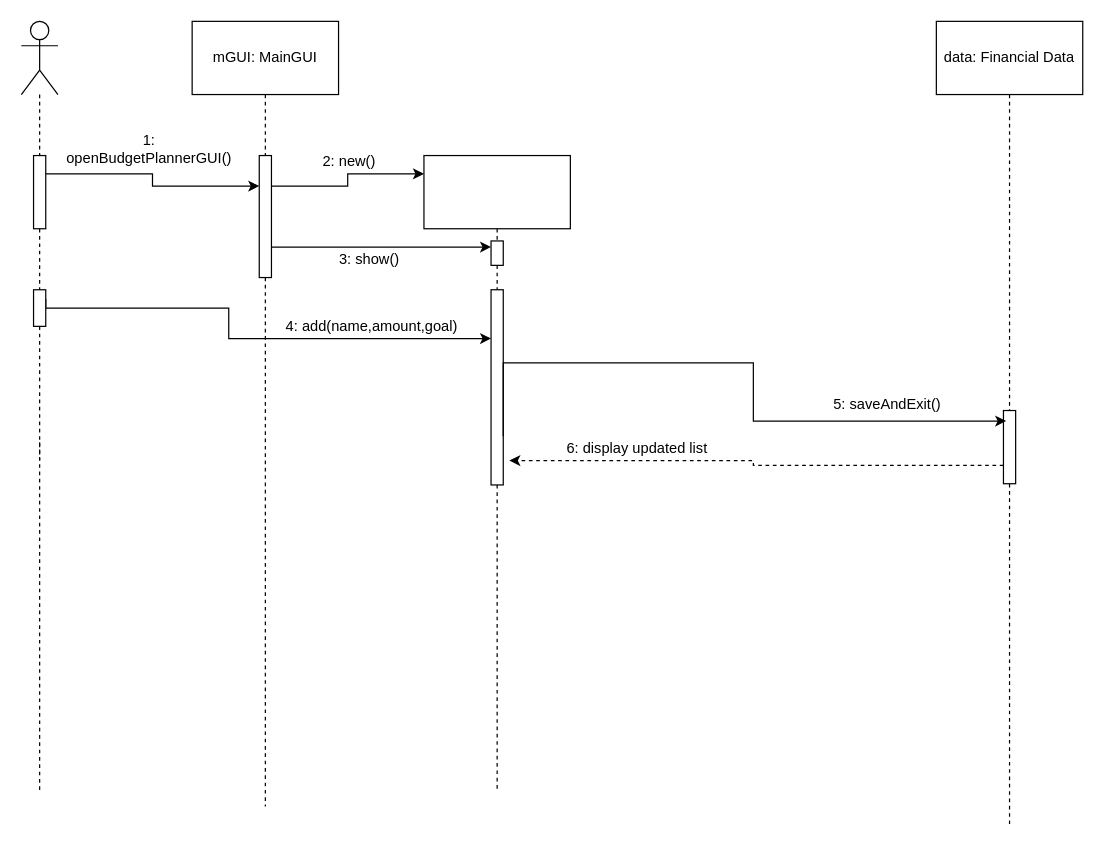
This 1104x849 diagram has some shape labels left out. The shapes that lost their labels are listed below. From the top down, each one's box as (x1, y1, x2, y2) in pixels, then its label:
(20, 20, 58, 95): Actor
(423, 154, 570, 229): budgetGUI: BudgetPlannerGUI
